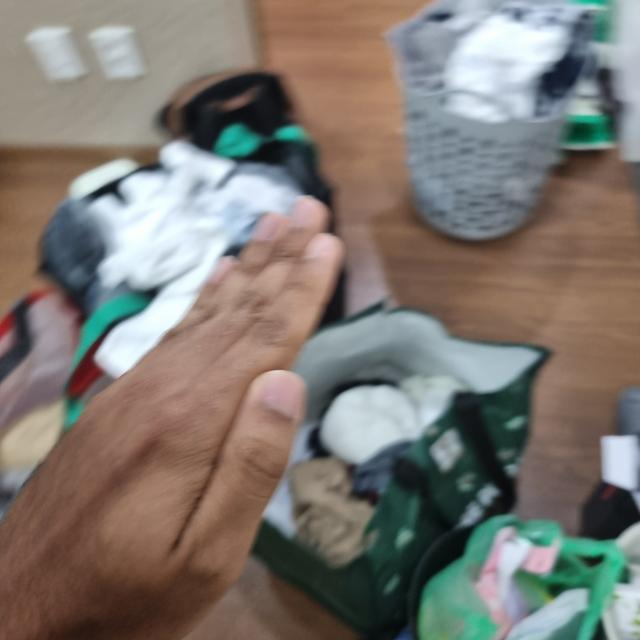Paper: (0, 201, 343, 640)
